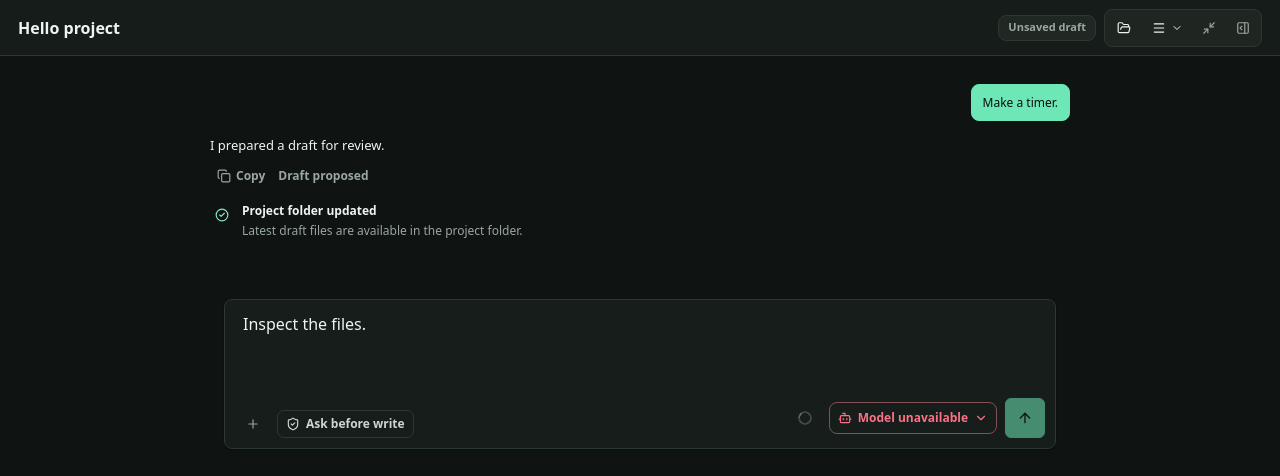
Test: BuilderPage v2 › keeps the file viewer stable while a newly selected file is loading
Click the button named "Workspace menu": (1167, 28) [1144, 12, 1190, 42]
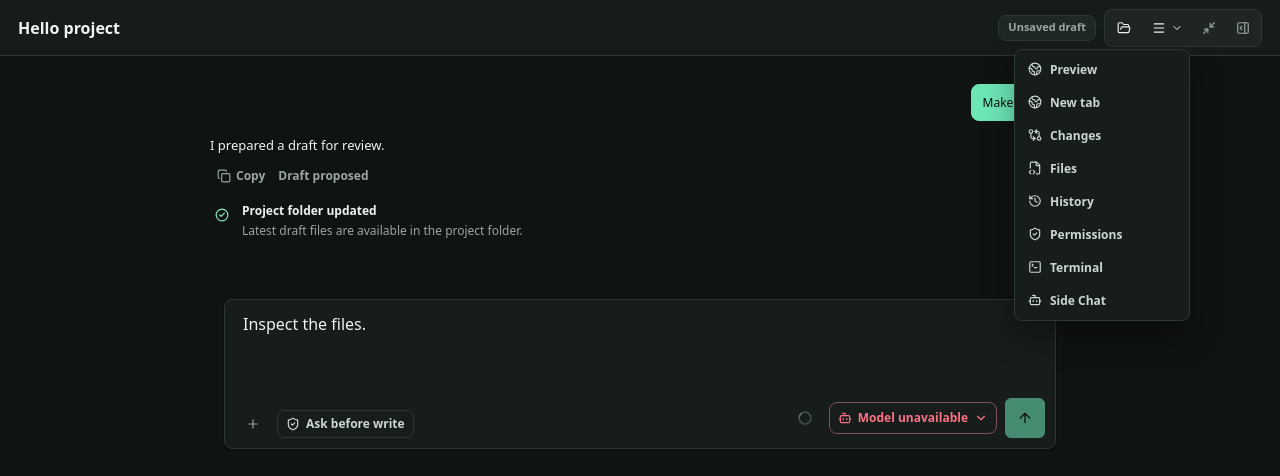
Expected: the menu item "Files" is shown
Click the menu item "Files": (1102, 168) [1019, 152, 1185, 184]
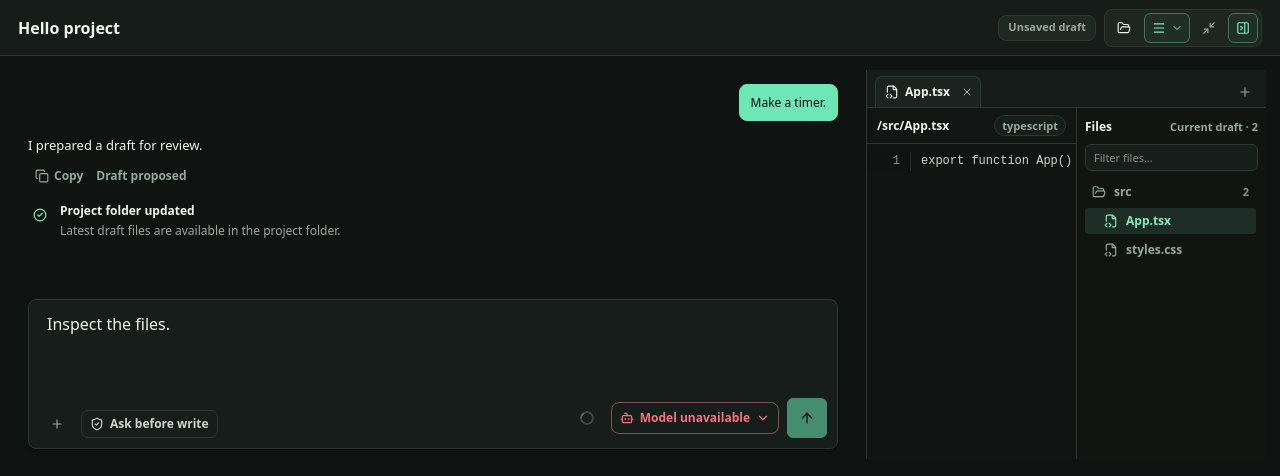
Expected: the button "styles.css" is shown
Click the button "styles.css": (1170, 250) [1085, 237, 1256, 263]
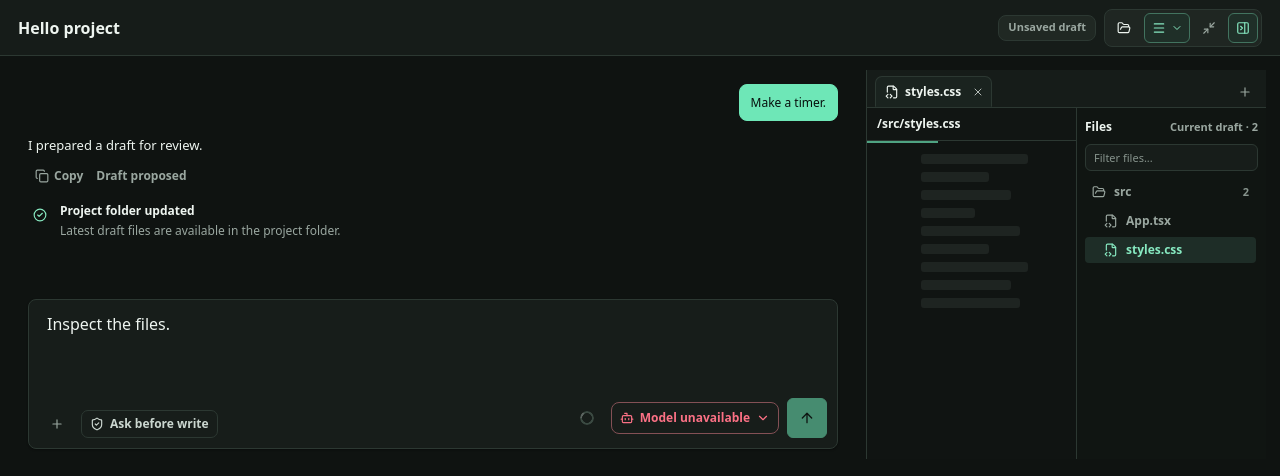
Expected: the text "/src/styles.css" is shown, [877, 115, 960, 132]
Expected: the number of elements with class "cf-builder-artifact-file-loading-line" is 9
